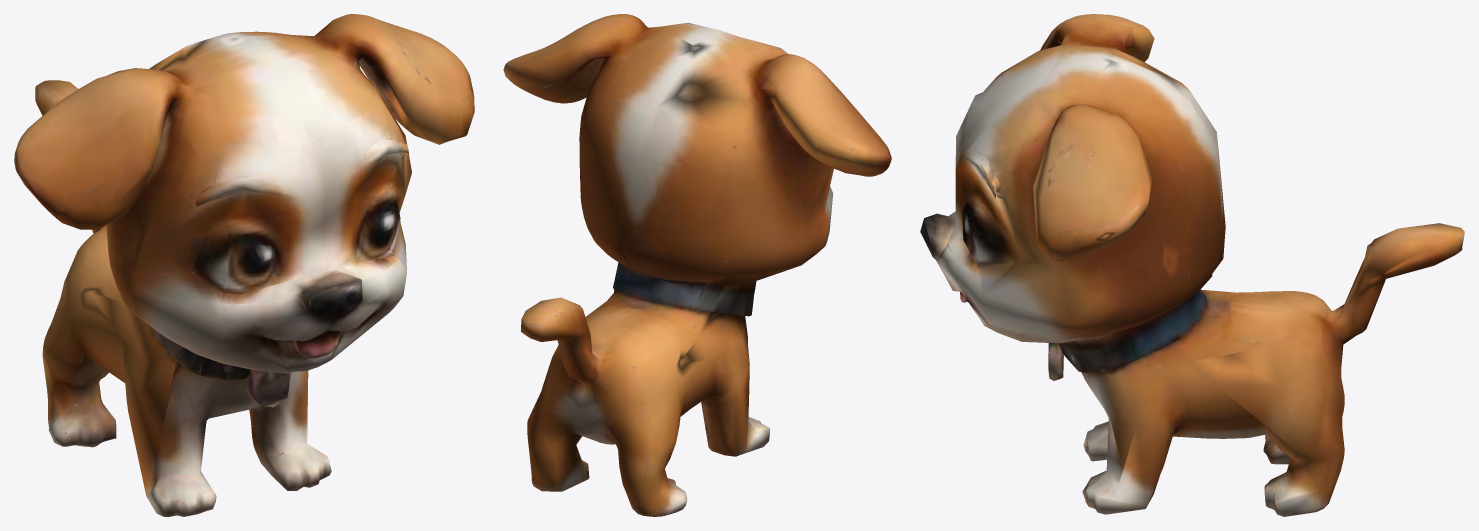
The model's file is dog.glb.
3 views of the same model, side by side, from view 1: azimuth 30°, elevation 25°; view 2: azimuth 150°, elevation 25°; view 3: azimuth 270°, elevation 25° (orthographic). The views are drawn at different scales.
Visible parts, largest first — view 1: Object_4; view 2: Object_4; view 3: Object_4.
Boxes of the visible parts, x1,y1,x2,y2 form: Object_4: (14, 14, 474, 516); Object_4: (503, 14, 891, 516); Object_4: (920, 14, 1464, 516).
Size of the model in its own units: 1.7 by 1.7 by 1.99.
1 material, 1 textured.
